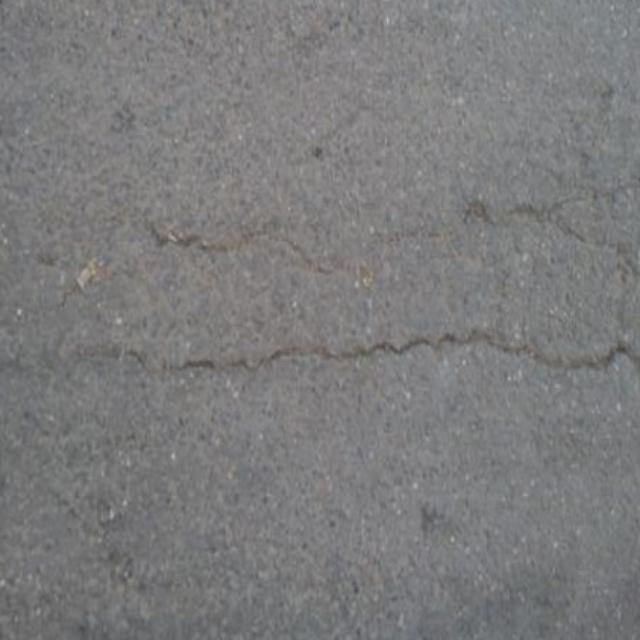GRIETA: (82, 331, 636, 372), (150, 225, 332, 274)
PIEL DE COCODRILO: (394, 66, 639, 336)
